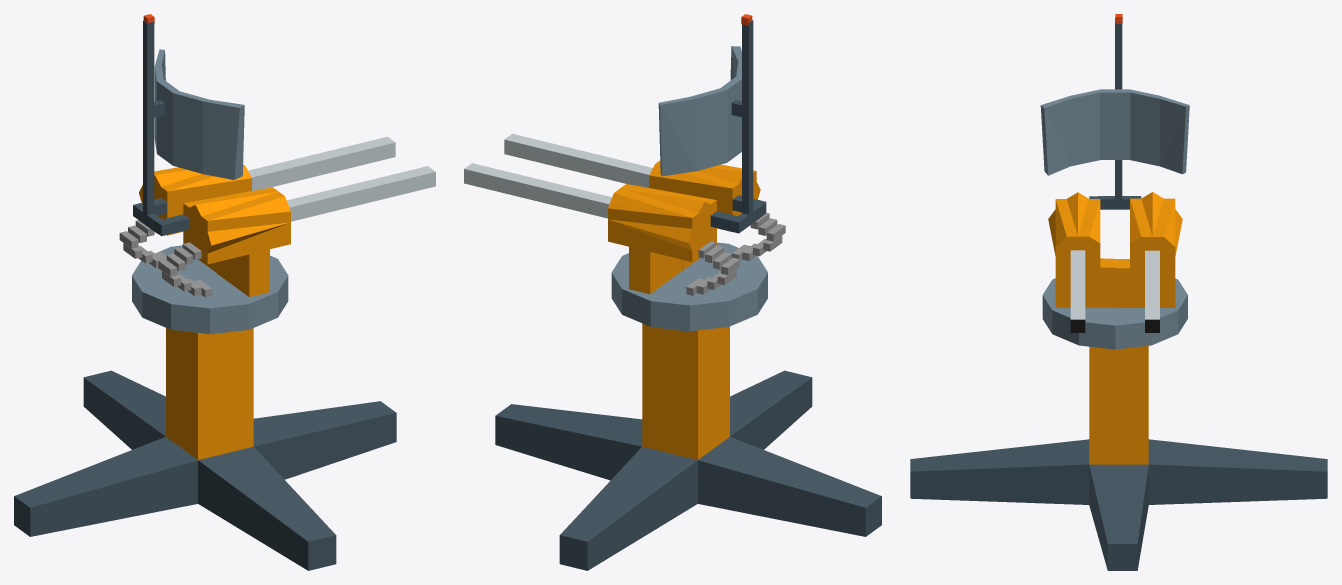
The model's file is scene_x4QNeGtaSb.glb.
3 renders of one model, left to right at view 1: azimuth 30°, elevation 25°; view 2: azimuth 150°, elevation 25°; view 3: azimuth 270°, elevation 25°, orthographic. The views are drawn at different scales.
Parts seen in each view (by area): view 1: group508397783, group1944382890, group1337905192, group1525033053, group1180747549, group788574077, group1679236059, group1488461618, group1768503584, group1162726311, group98759565, group1667378180 (+1 smaller); view 2: group1679236059, group1944382890, group508397783, group1488461618, group1180747549, group788574077, group1337905192, group1768503584, group1162726311, group1525033053, group960216065, group876765673 (+1 smaller); view 3: group1488461618, group1337905192, group1944382890, group1679236059, group788574077, group1525033053, group1180747549, group1667378180, group510262354, group876765673, group98759565, group960216065 (+2 smaller).
Part boxes in pixels (x1=…): group508397783: x1=14, y1=437, x2=197, y2=536; group1944382890: x1=166, y1=328, x2=253, y2=459; group1337905192: x1=198, y1=446, x2=336, y2=570; group1525033053: x1=155, y1=187, x2=290, y2=296; group1180747549: x1=132, y1=245, x2=288, y2=334; group788574077: x1=253, y1=401, x2=396, y2=479; group1679236059: x1=133, y1=20, x2=251, y2=272; group1488461618: x1=83, y1=370, x2=165, y2=449; group1768503584: x1=286, y1=166, x2=435, y2=221; group1162726311: x1=248, y1=136, x2=395, y2=190; group98759565: x1=203, y1=99, x2=244, y2=179; group1667378180: x1=173, y1=91, x2=209, y2=173; group1679236059: x1=608, y1=20, x2=761, y2=293; group1944382890: x1=642, y1=323, x2=729, y2=459; group508397783: x1=698, y1=437, x2=881, y2=536; group1488461618: x1=559, y1=446, x2=697, y2=570; group1180747549: x1=611, y1=242, x2=767, y2=331; group788574077: x1=495, y1=404, x2=642, y2=480; group1337905192: x1=730, y1=370, x2=812, y2=449; group1768503584: x1=504, y1=133, x2=652, y2=187; group1162726311: x1=464, y1=163, x2=611, y2=218; group1525033053: x1=649, y1=160, x2=766, y2=270; group960216065: x1=658, y1=97, x2=696, y2=176; group876765673: x1=690, y1=88, x2=726, y2=170; group1488461618: x1=1148, y1=439, x2=1327, y2=504; group1337905192: x1=910, y1=439, x2=1089, y2=504; group1944382890: x1=1089, y1=346, x2=1148, y2=464; group1679236059: x1=1099, y1=18, x2=1182, y2=307; group788574077: x1=1089, y1=464, x2=1148, y2=570; group1525033053: x1=1048, y1=192, x2=1115, y2=307; group1180747549: x1=1042, y1=278, x2=1187, y2=349; group1667378180: x1=1070, y1=89, x2=1100, y2=166; group510262354: x1=1100, y1=89, x2=1130, y2=159; group876765673: x1=1130, y1=89, x2=1159, y2=166; group98759565: x1=1040, y1=96, x2=1070, y2=175; group960216065: x1=1160, y1=96, x2=1189, y2=174.
Bounding box in the file's own units: 1.12 × 1.33 × 1.12.
